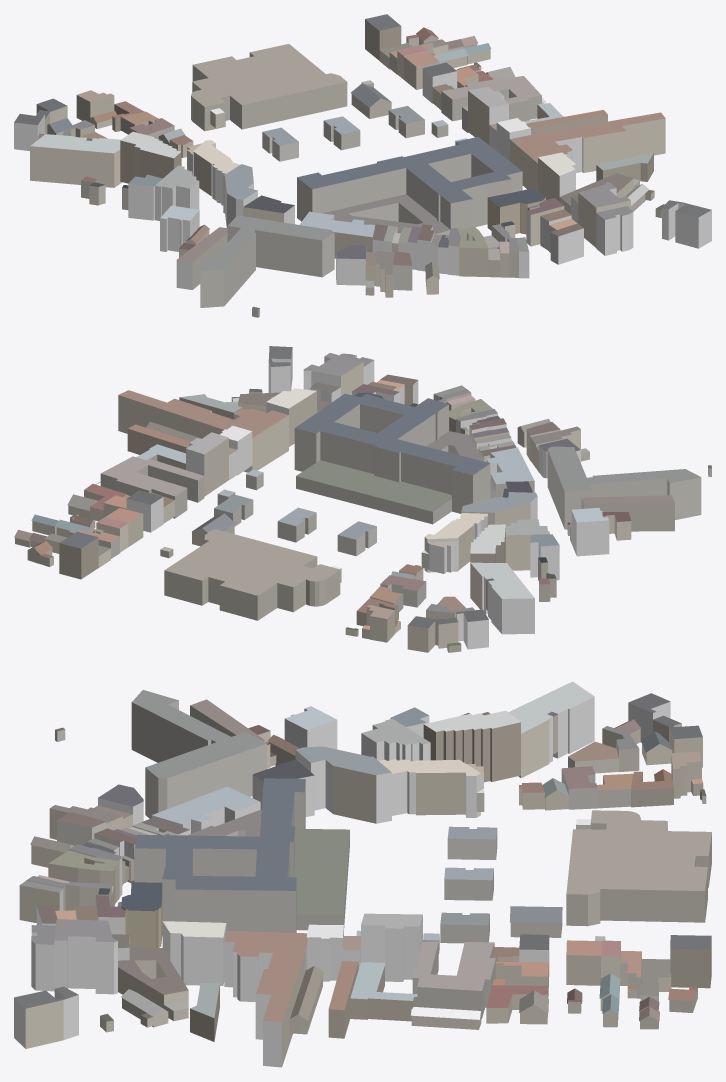
The picture shows the model from 3 angles, top to bottom: view 1: azimuth 30°, elevation 25°; view 2: azimuth 150°, elevation 25°; view 3: azimuth 270°, elevation 25°; orthographic projection. The views are drawn at different scales.
Visible parts, largest first — view 1: tuile; view 2: tuile; view 3: tuile.
Part boxes in pixels (<box>): tuile: <box>14,14,711,317</box>; tuile: <box>14,346,711,652</box>; tuile: <box>14,681,711,1067</box>.
Bounding box in the file's own units: 292 × 34.37 × 264.
